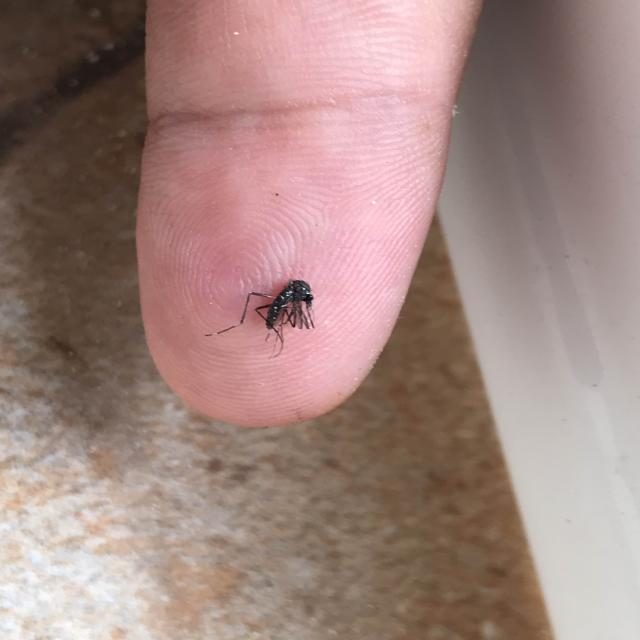albopictus: (204, 274, 323, 364)
